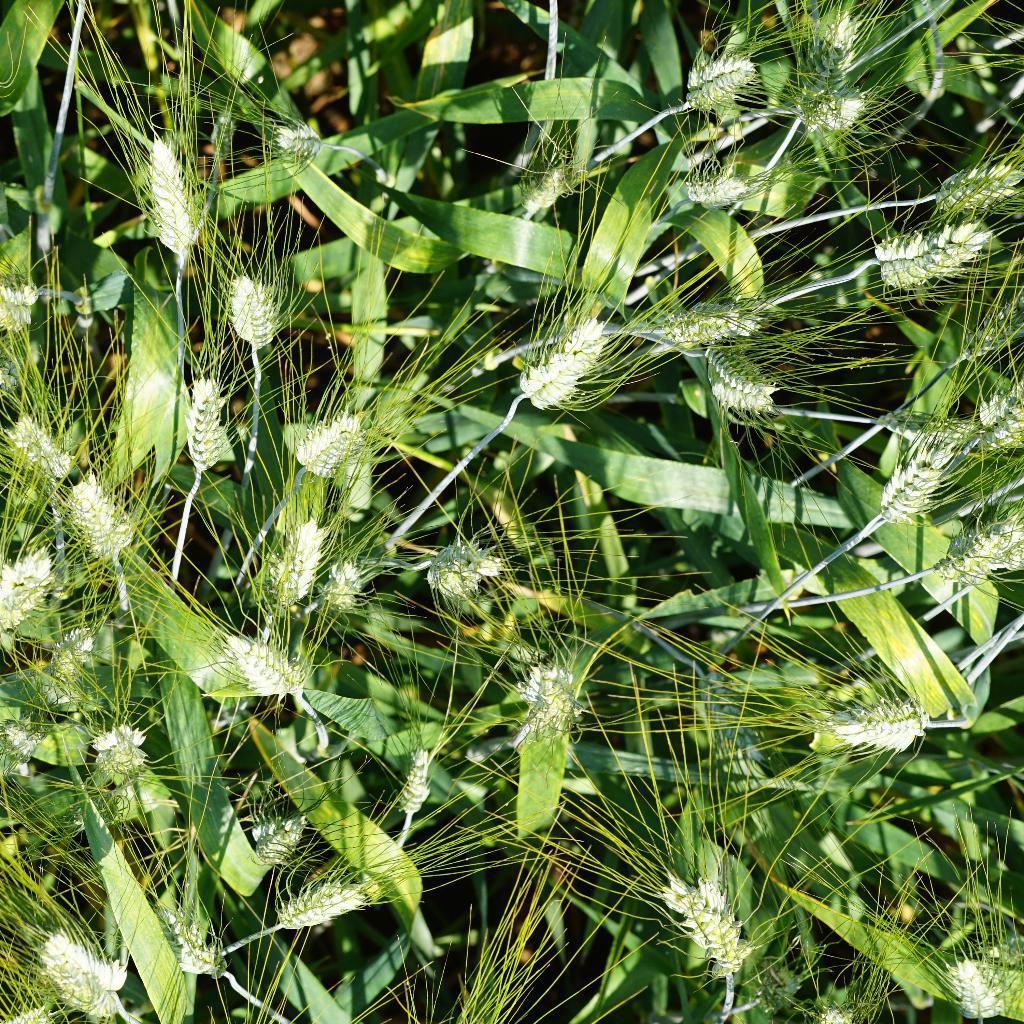0-0: (133, 127, 220, 295), (499, 313, 621, 432), (657, 870, 765, 994), (788, 683, 937, 766), (855, 221, 991, 303), (209, 622, 323, 714), (642, 288, 777, 365), (29, 932, 138, 1024), (692, 667, 783, 775), (204, 256, 287, 372), (251, 511, 328, 631), (920, 505, 1024, 592), (901, 141, 1024, 214), (862, 443, 955, 538), (245, 870, 389, 929), (64, 465, 141, 570), (798, 0, 882, 96), (499, 138, 595, 220), (0, 399, 77, 501), (690, 339, 785, 419), (156, 892, 243, 978), (938, 937, 1023, 1024), (675, 30, 757, 119), (954, 366, 1024, 469), (870, 396, 988, 457), (430, 535, 527, 609), (784, 59, 864, 148), (291, 393, 370, 482), (661, 146, 759, 215), (499, 660, 579, 744), (40, 612, 104, 712), (174, 359, 225, 478), (382, 735, 447, 825), (0, 544, 51, 634), (732, 949, 801, 1015), (257, 114, 331, 175), (246, 803, 313, 870), (92, 720, 159, 781), (65, 783, 131, 843), (0, 283, 55, 338), (320, 553, 370, 610), (0, 709, 45, 770), (205, 100, 241, 166)
